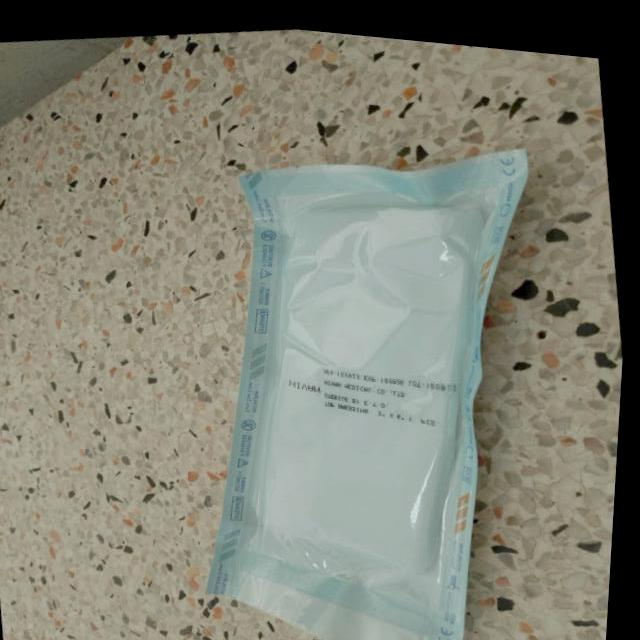Infectious: (205, 146, 528, 639)
